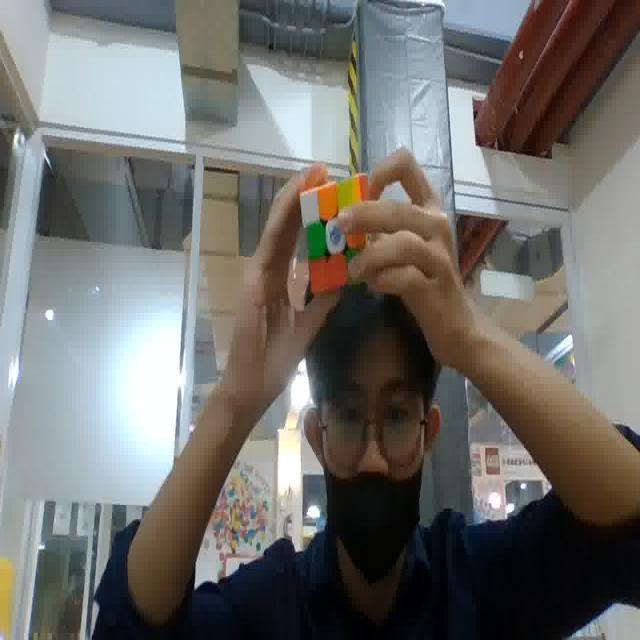Rub: (299, 173, 373, 292)
